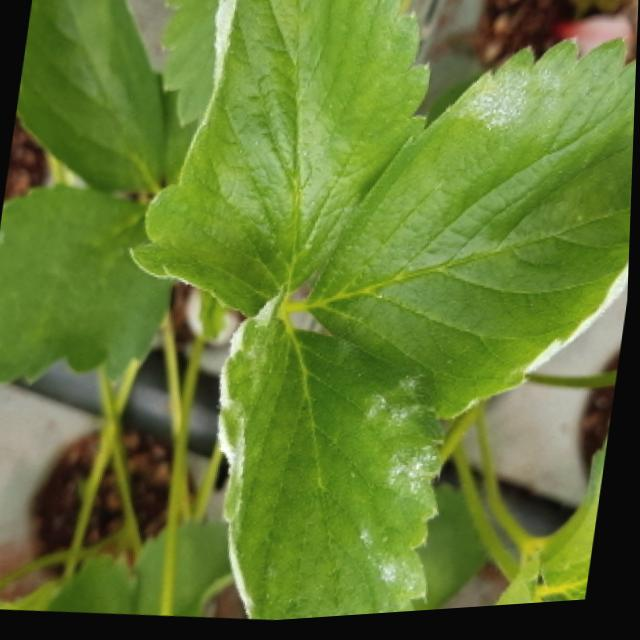Powdery Mildew Leaf: (305, 45, 637, 426), (130, 0, 433, 320), (220, 296, 451, 624)
